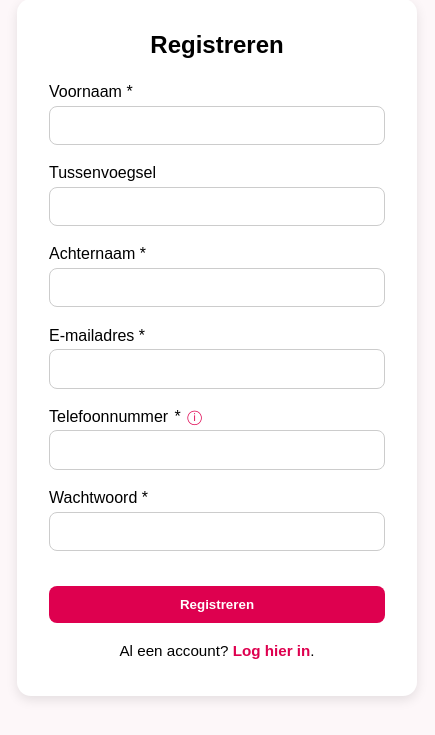
Register component › laat foutmelding zien als profielinsert faalt
Step 1. Type "Jan" into the field labelled "Voornaam *" → [217, 125], box x1=49 y1=106 x2=385 y2=145
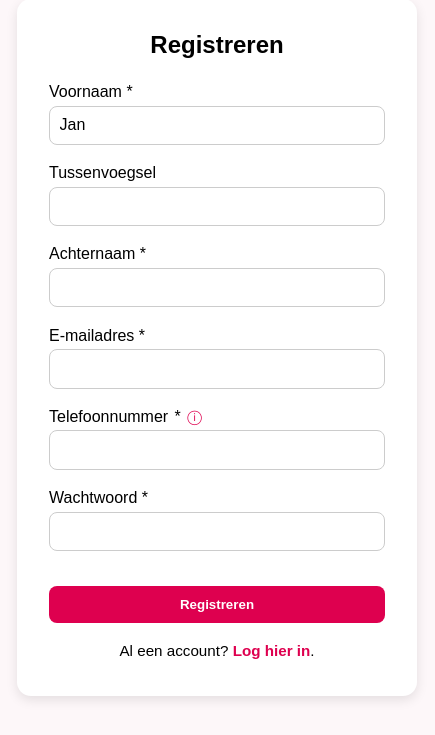
Step 2. Type "Jansen" into the field labelled "Achternaam *" → [217, 288], box x1=49 y1=268 x2=385 y2=307
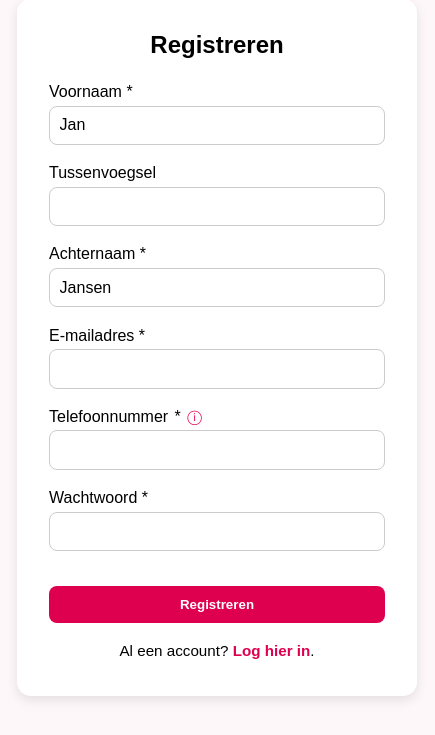
Step 3. Type "jan@example.com" into the field labelled "E-mailadres *" → [217, 369], box x1=49 y1=349 x2=385 y2=388
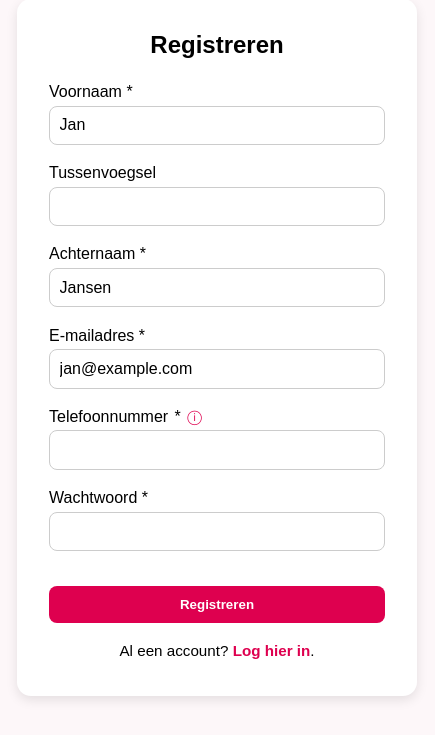
Step 4. Type "0612345678" into the field labelled "Telefoonnummer * ⓘ" → [217, 450], box x1=49 y1=430 x2=385 y2=470
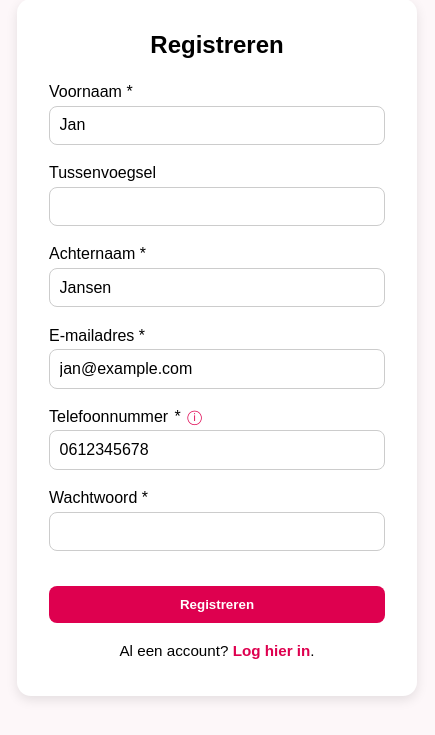
Step 5. Type "wachtwoord" into the password field labelled "Wachtwoord *" → [217, 531], box x1=49 y1=512 x2=385 y2=551
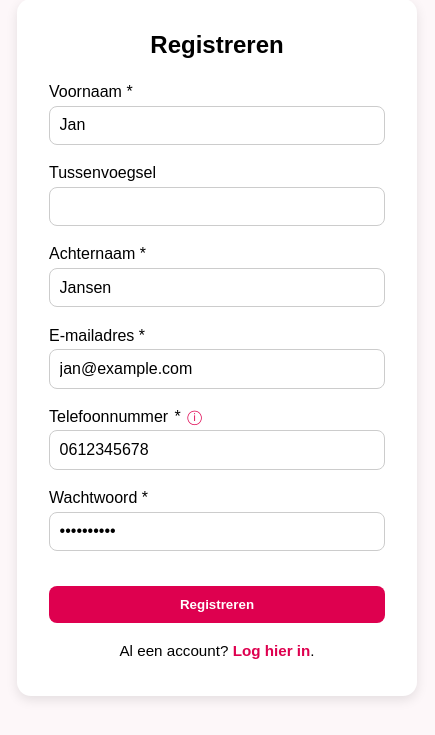
Step 6. Click the button "Registreren" → [217, 605], box x1=49 y1=586 x2=385 y2=623
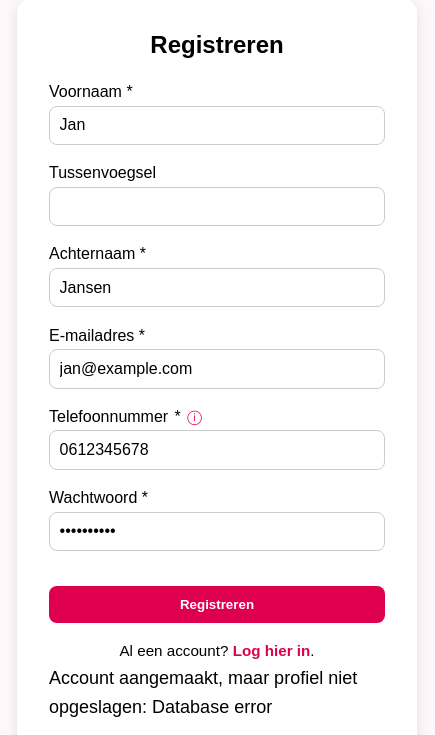
Expected: the text "Account aangemaakt, maar profiel niet opgeslagen" is shown, x1=49 y1=668 x2=357 y2=716
